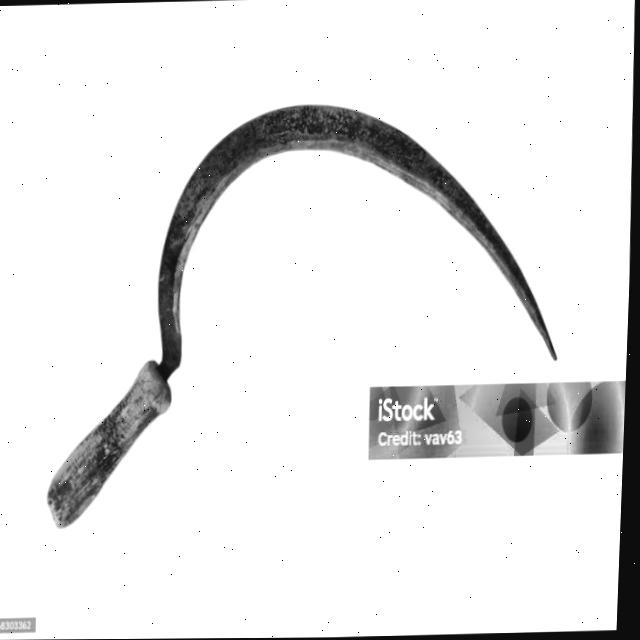celurit: (38, 89, 565, 545)
